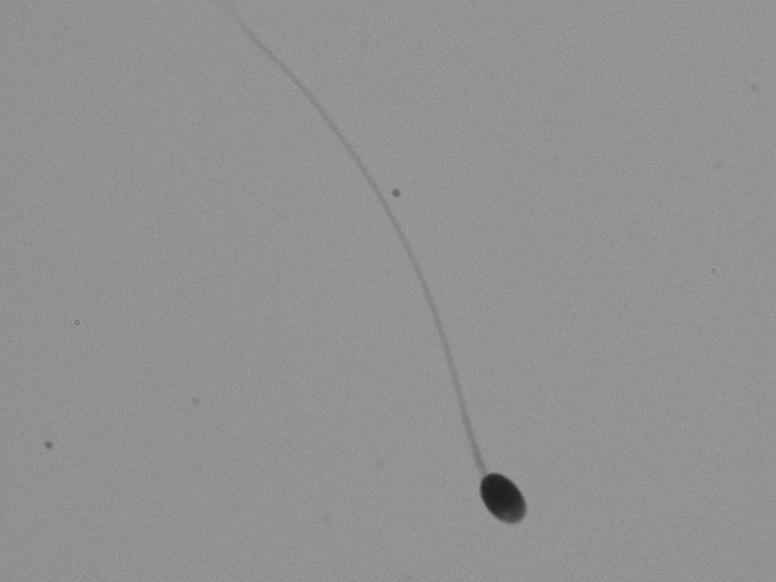Normal: (244, 55, 629, 532)
